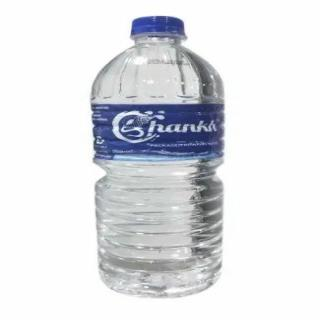Anorganik: (80, 8, 246, 299)
